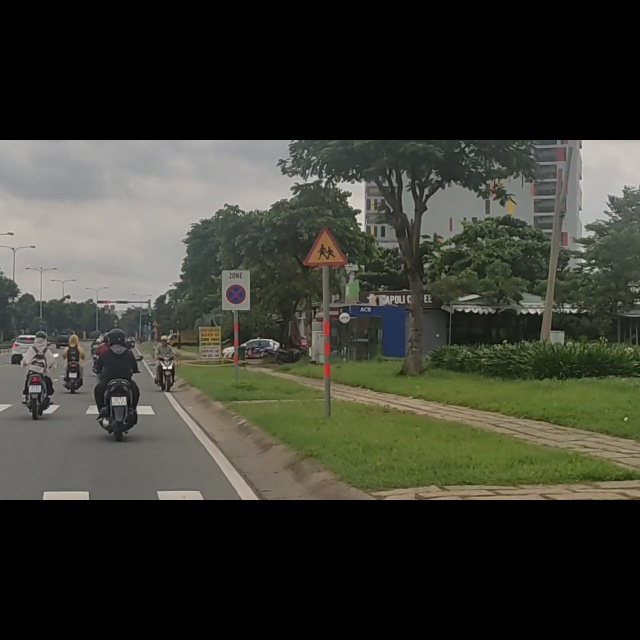bien_nguy_hiem: (303, 153, 347, 222), (225, 257, 247, 293)
